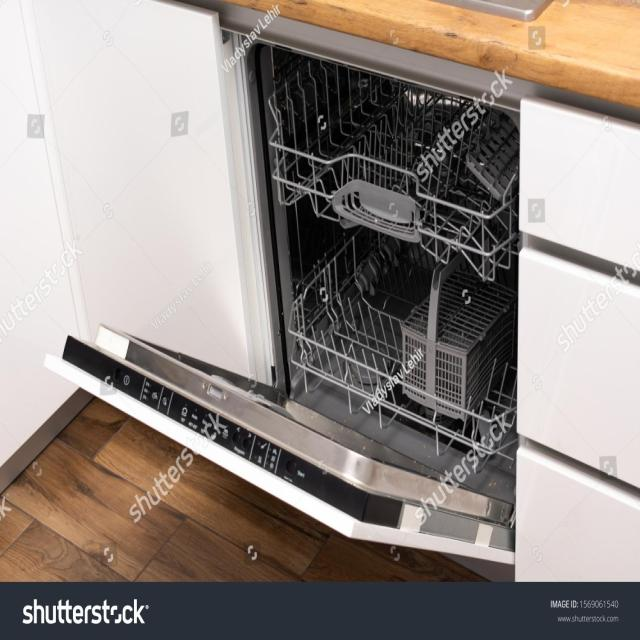dishwasher: (39, 63, 544, 583)
